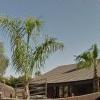Palm tree: (5, 14, 48, 96)
